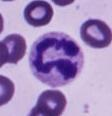N: (28, 31, 85, 87)
